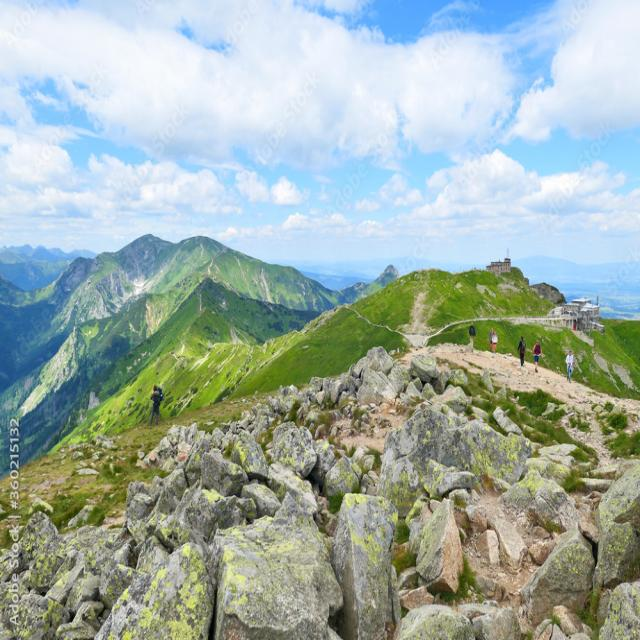Giewont: (362, 228, 418, 310)
Kasprowy Wierch: (427, 182, 583, 352)
Kopa Kondracka: (207, 222, 254, 278)
Krzesanica: (128, 208, 171, 262)
Malolaczniak: (174, 205, 230, 268)
